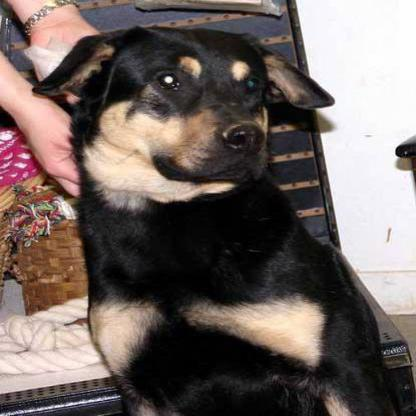dog: (46, 9, 334, 331)
